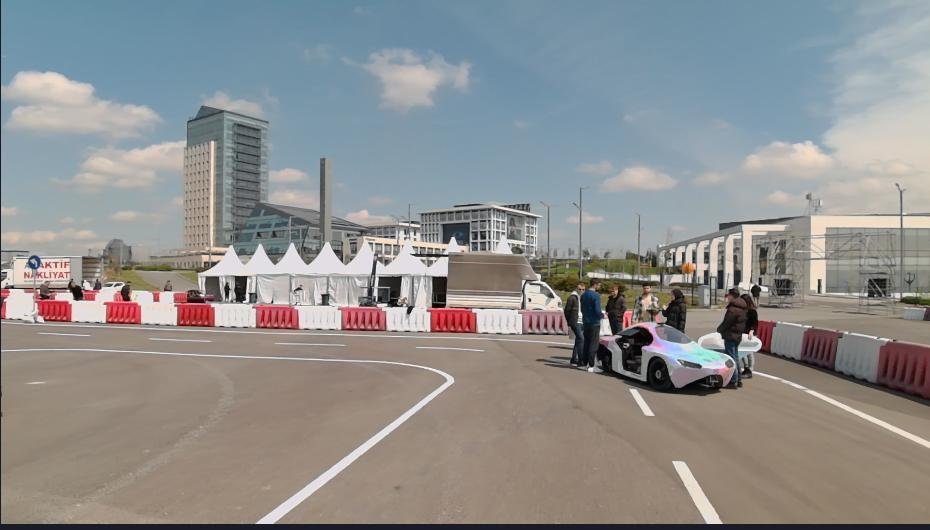nesne: (0, 320, 930, 525), (2, 324, 726, 526), (0, 345, 456, 523), (625, 365, 930, 524), (36, 299, 569, 333), (756, 318, 930, 403), (751, 367, 928, 448), (45, 322, 567, 343), (602, 320, 736, 392), (410, 253, 561, 309), (0, 252, 101, 292), (669, 458, 724, 524), (873, 339, 929, 401), (715, 286, 746, 387), (830, 330, 885, 384), (578, 276, 608, 370), (738, 293, 761, 381), (356, 253, 394, 306), (798, 324, 841, 369), (564, 281, 585, 366), (769, 321, 805, 359), (629, 280, 659, 325), (475, 309, 524, 335), (430, 306, 476, 333), (296, 305, 343, 331), (384, 306, 430, 332), (521, 309, 568, 334), (341, 306, 386, 332), (604, 284, 626, 334), (212, 303, 254, 328), (255, 304, 297, 328), (661, 288, 686, 327), (177, 302, 214, 326), (139, 302, 176, 325), (627, 387, 655, 416), (69, 301, 105, 322), (37, 299, 70, 321), (105, 301, 139, 322), (143, 334, 214, 343), (6, 295, 31, 319), (698, 330, 725, 352), (757, 320, 775, 353), (414, 344, 486, 352), (36, 330, 94, 338), (274, 340, 346, 346), (288, 281, 308, 302), (898, 307, 930, 320), (900, 307, 926, 321), (750, 278, 762, 308), (188, 288, 214, 301), (22, 310, 45, 324), (37, 278, 51, 299), (69, 280, 85, 298), (121, 278, 133, 301), (1, 289, 10, 319), (93, 290, 117, 301), (28, 253, 42, 270), (102, 278, 119, 292), (132, 291, 151, 301), (223, 281, 231, 302), (82, 275, 91, 292), (92, 276, 102, 291), (162, 279, 172, 293), (159, 293, 174, 302), (32, 269, 35, 312), (174, 292, 187, 301), (84, 291, 96, 300), (924, 307, 930, 321), (113, 292, 123, 299), (151, 292, 158, 301)
